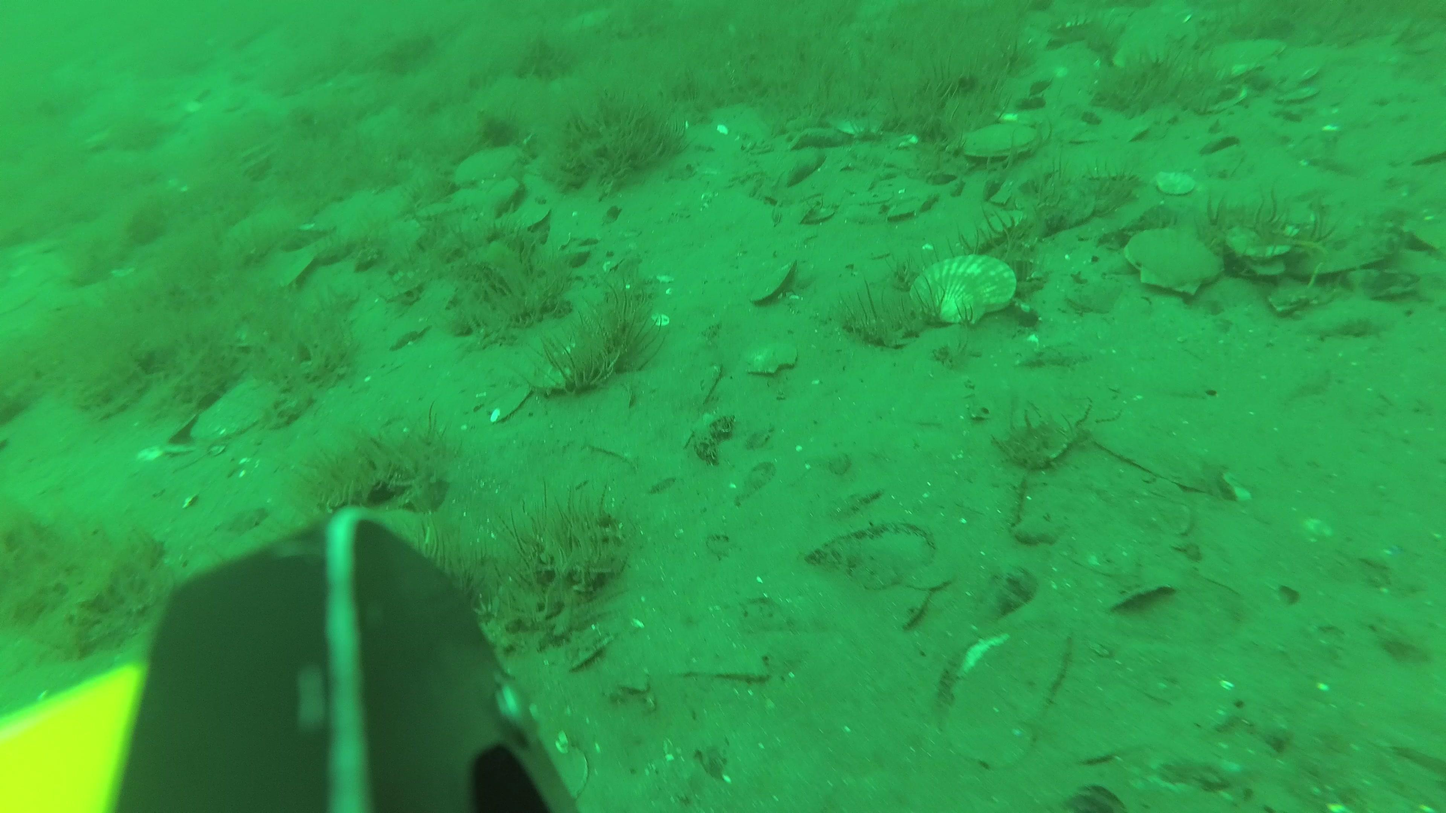scallop: (906, 249, 1022, 331), (1120, 219, 1226, 298), (190, 373, 286, 449), (448, 144, 527, 194), (958, 122, 1043, 162), (737, 335, 810, 379)
